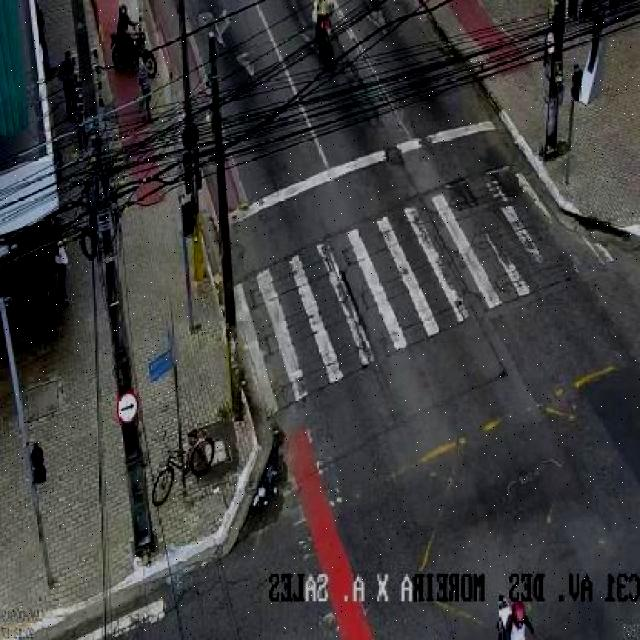Cycle: (150, 427, 216, 507), (108, 28, 159, 78), (314, 13, 336, 58)
